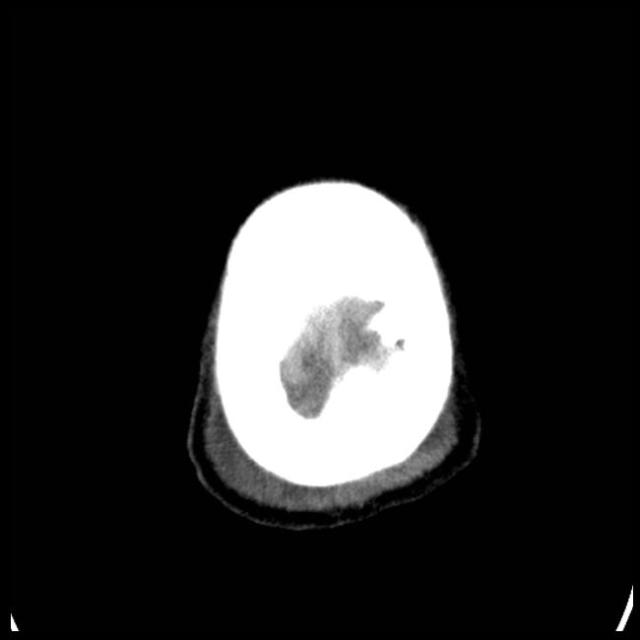lesion: (180, 171, 488, 534)
